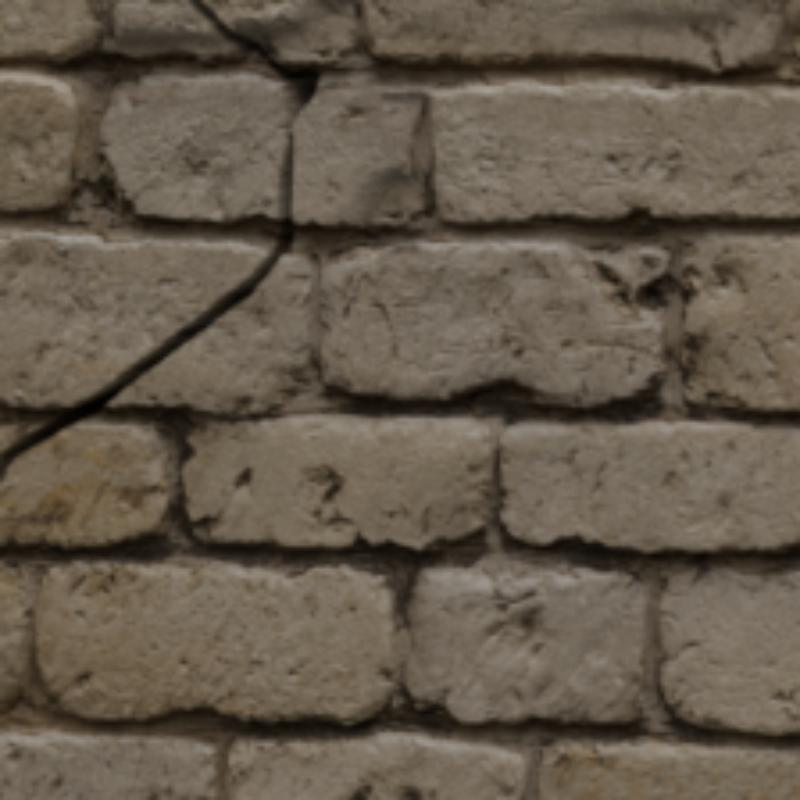pothole: (0, 146, 293, 479), (189, 0, 318, 135)
